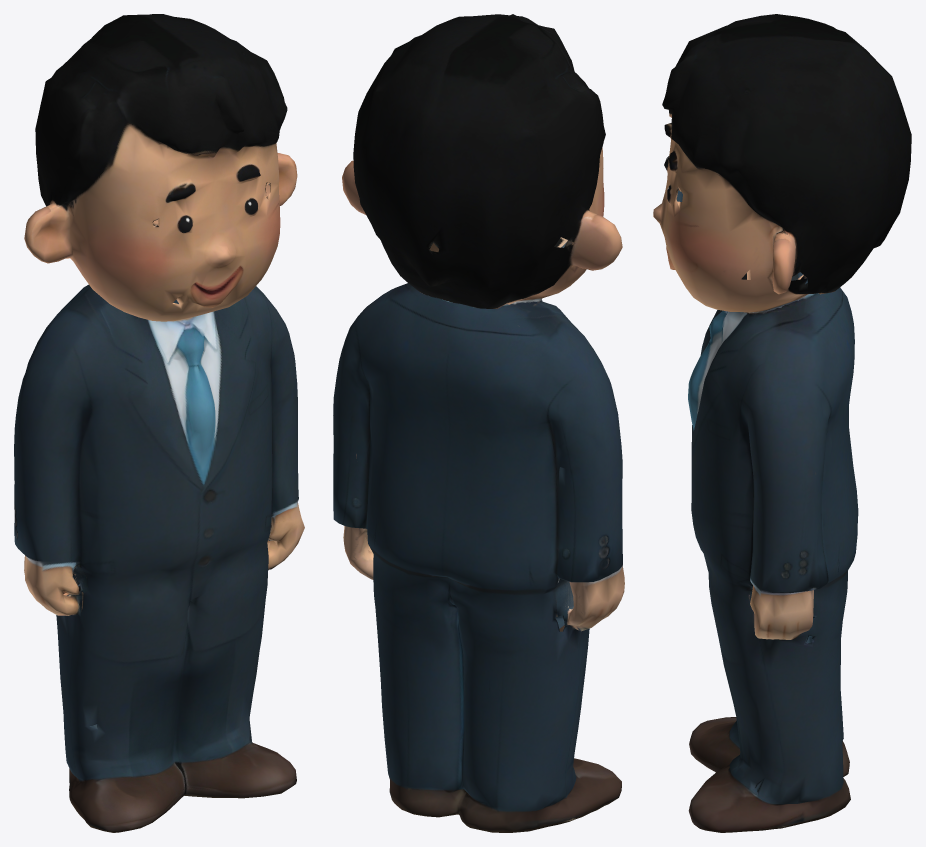
The model's file is office_staff.glb.
3 renders of one model, left to right at view 1: azimuth 30°, elevation 25°; view 2: azimuth 150°, elevation 25°; view 3: azimuth 270°, elevation 25°, orthographic.
Bounding box in the file's own units: 24885 × 65626 × 20415.
1 material, 1 textured.
